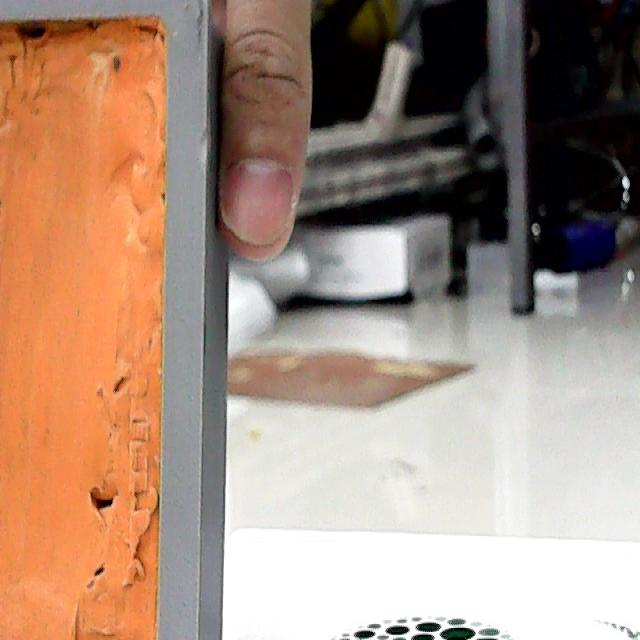block: (0, 13, 224, 638)
